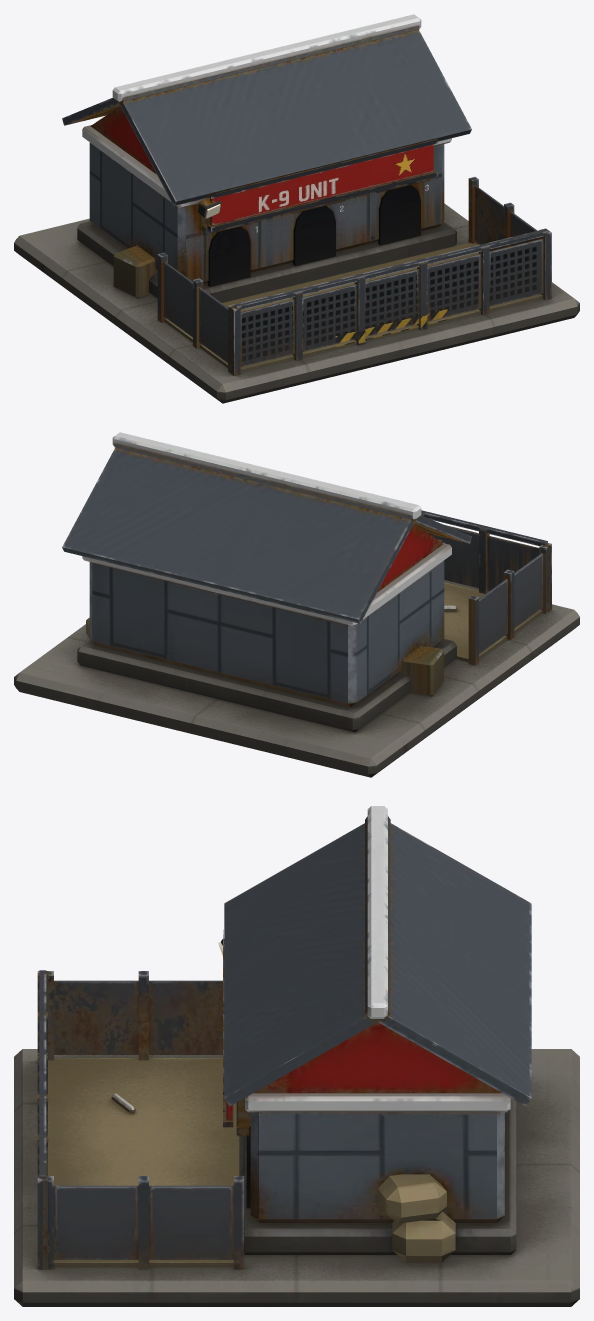
The model's file is kenn.soviet.glb.
3 views of the same model, one above another, from view 1: azimuth 30°, elevation 25°; view 2: azimuth 150°, elevation 25°; view 3: azimuth 270°, elevation 25° (orthographic). The views are drawn at different scales.
Visible parts, largest first — view 1: root_mesh; view 2: root_mesh; view 3: root_mesh.
Boxes of the visible parts, <box> form: root_mesh: <box>14,14,579,403</box>; root_mesh: <box>14,432,579,777</box>; root_mesh: <box>14,806,579,1306</box>.
Size of the model in its own units: 0.98 by 0.547 by 0.98.
1 material, 1 textured.
